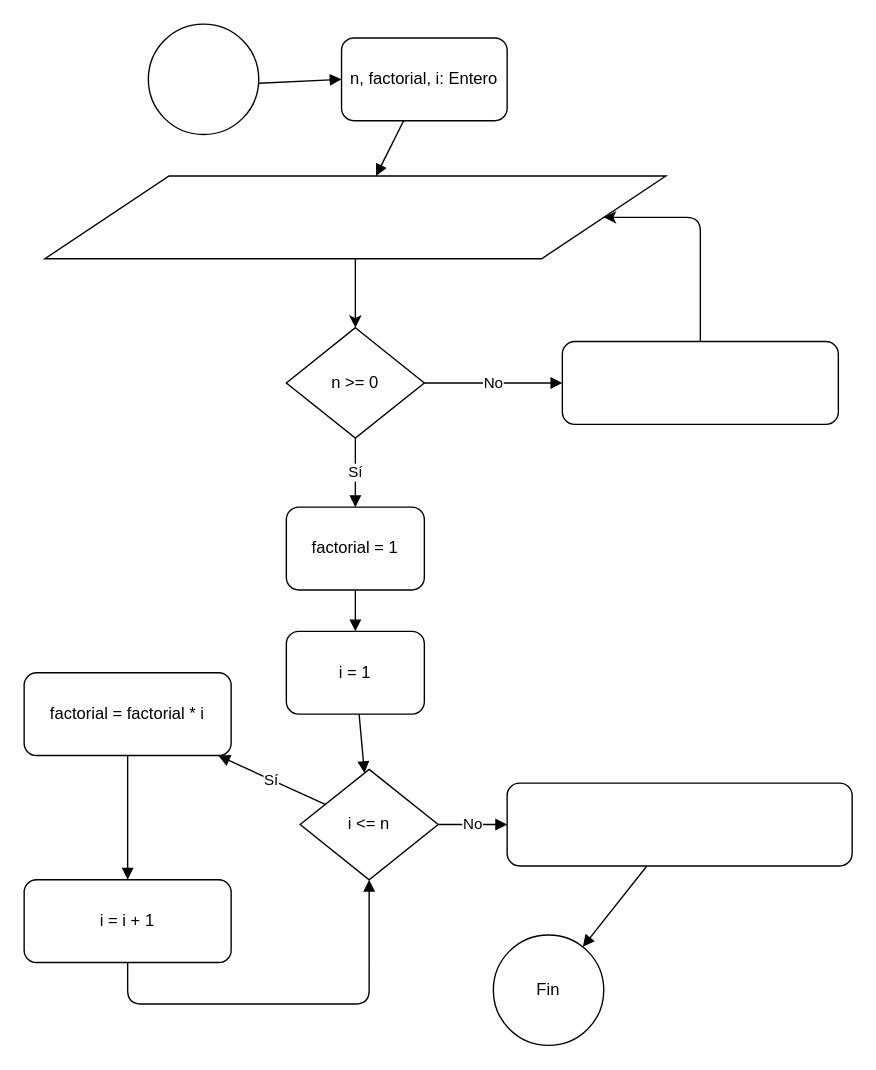
Some shapes in this 876 by 1070 pixel diagram are drawn without their labels. The shapes that lost their labels are listed below. From the top down, each one's centre as x and y in pixels, then its label:
[203,79]: Inicio
[354,217]: ESCRIBIR: "Introduce un número entero positivo o cero" LEER: n
[699,382]: ESCRIBIR: "Dato incorrecto. Vuelve a intentar"
[679,824]: ESCRIBIR: "El factorial de" + n + "es" + factorial
